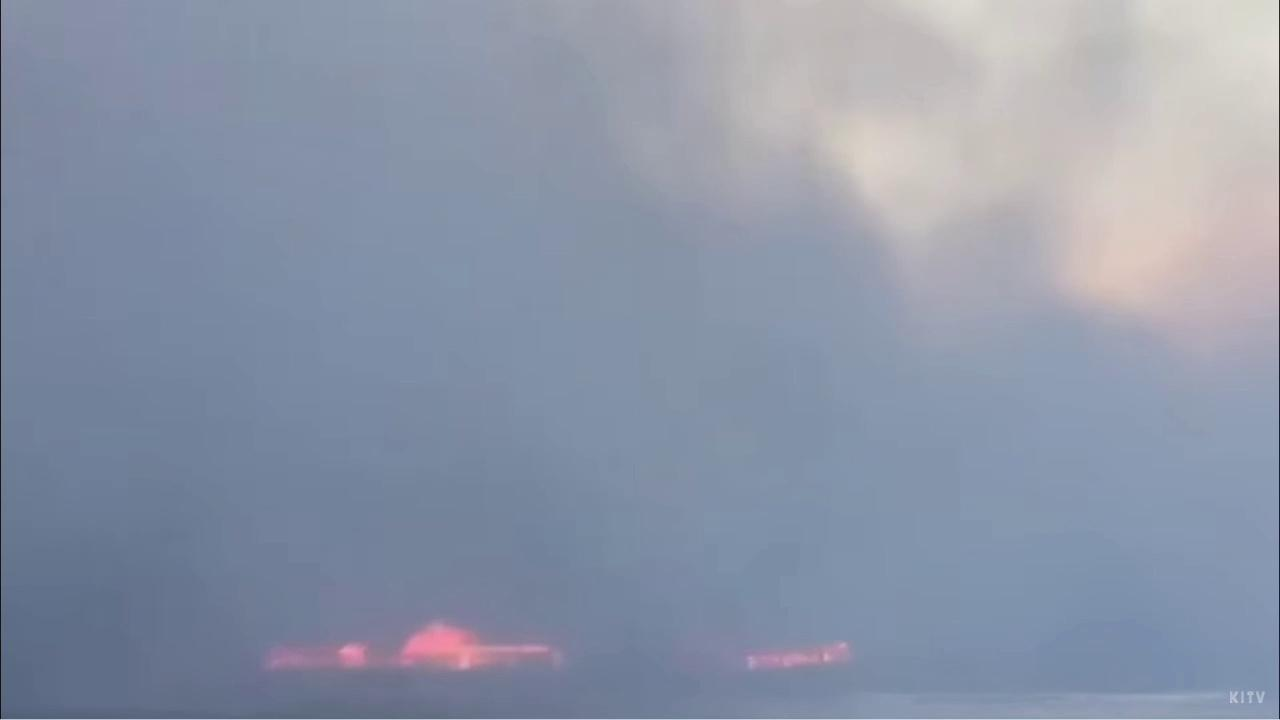fire: (262, 617, 556, 676), (739, 638, 857, 669)
smoke: (0, 0, 1280, 718)
